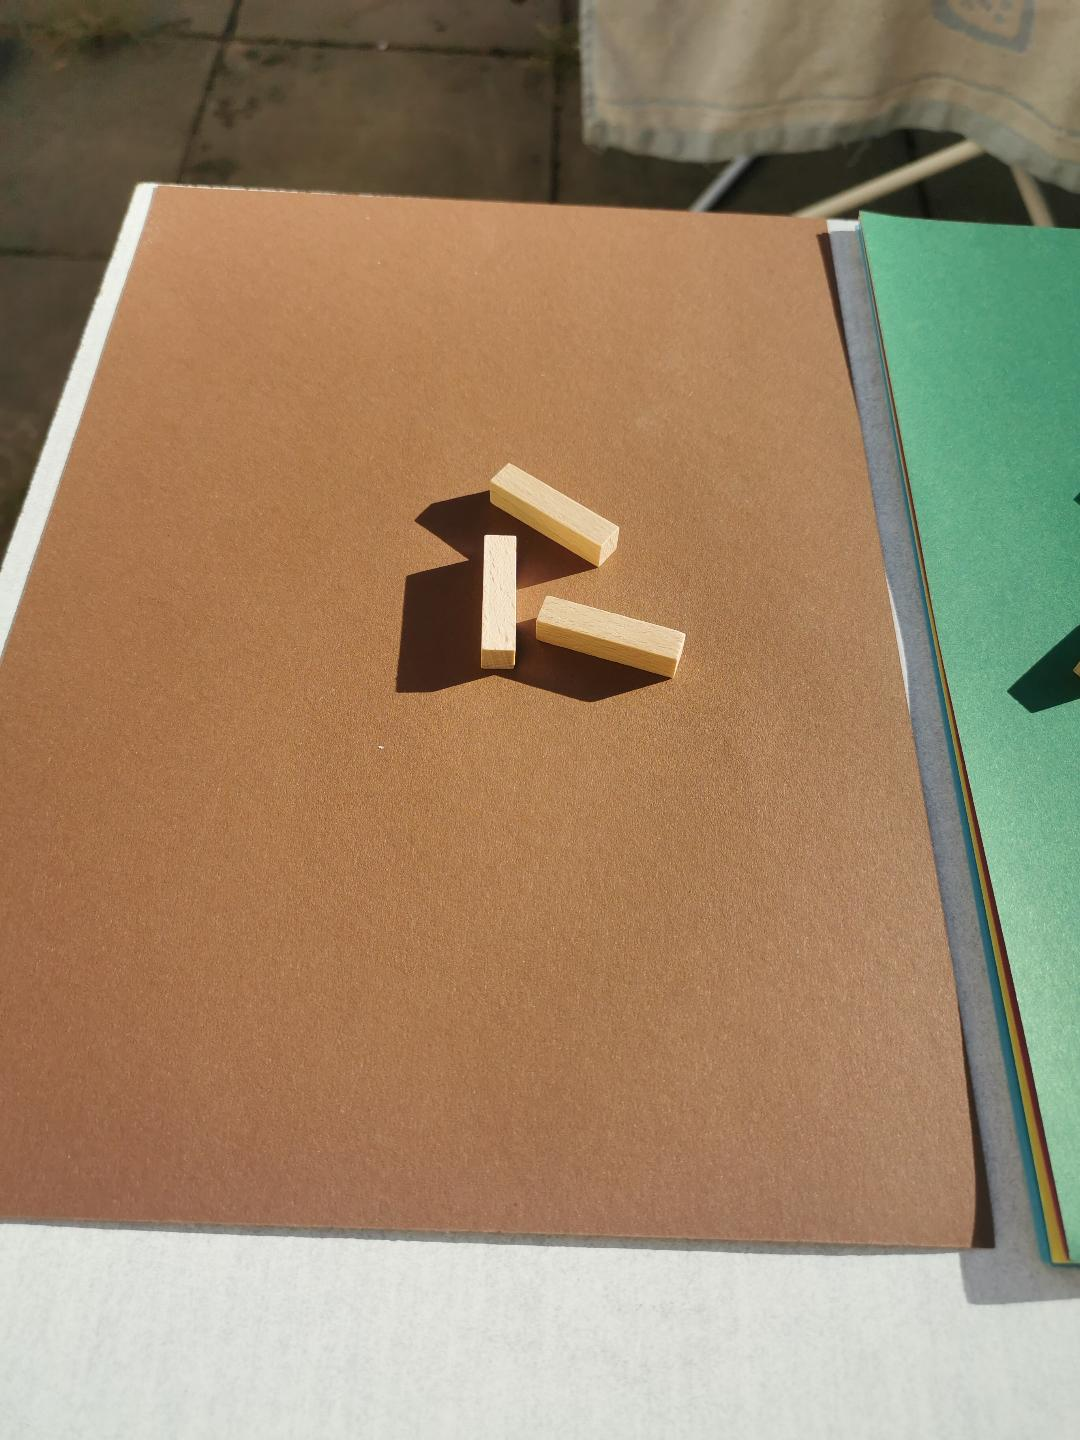jenga: (489, 464, 618, 566), (534, 596, 686, 678), (481, 534, 517, 669)
